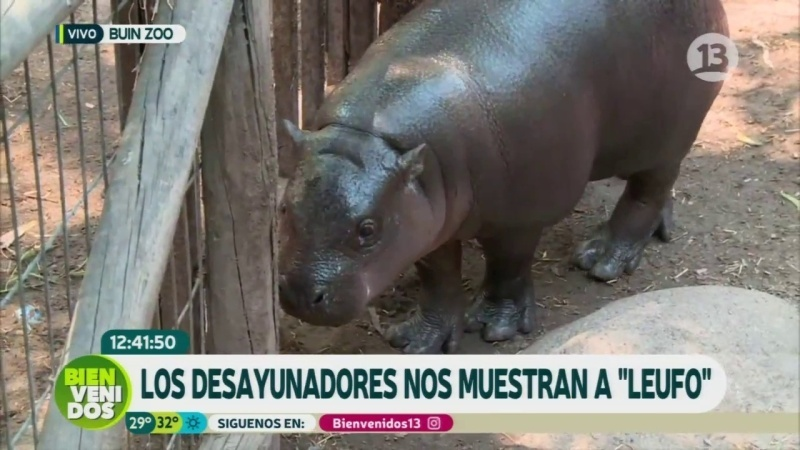hipopotamo: (266, 1, 742, 352)
